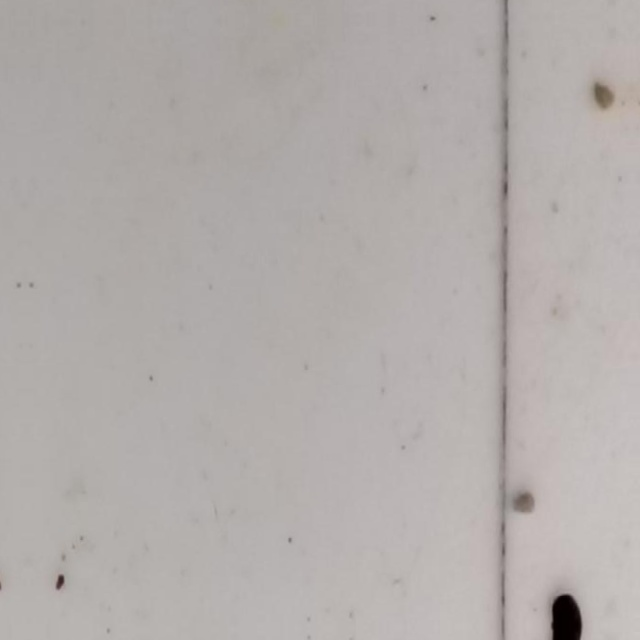varroa: (549, 591, 583, 625)
